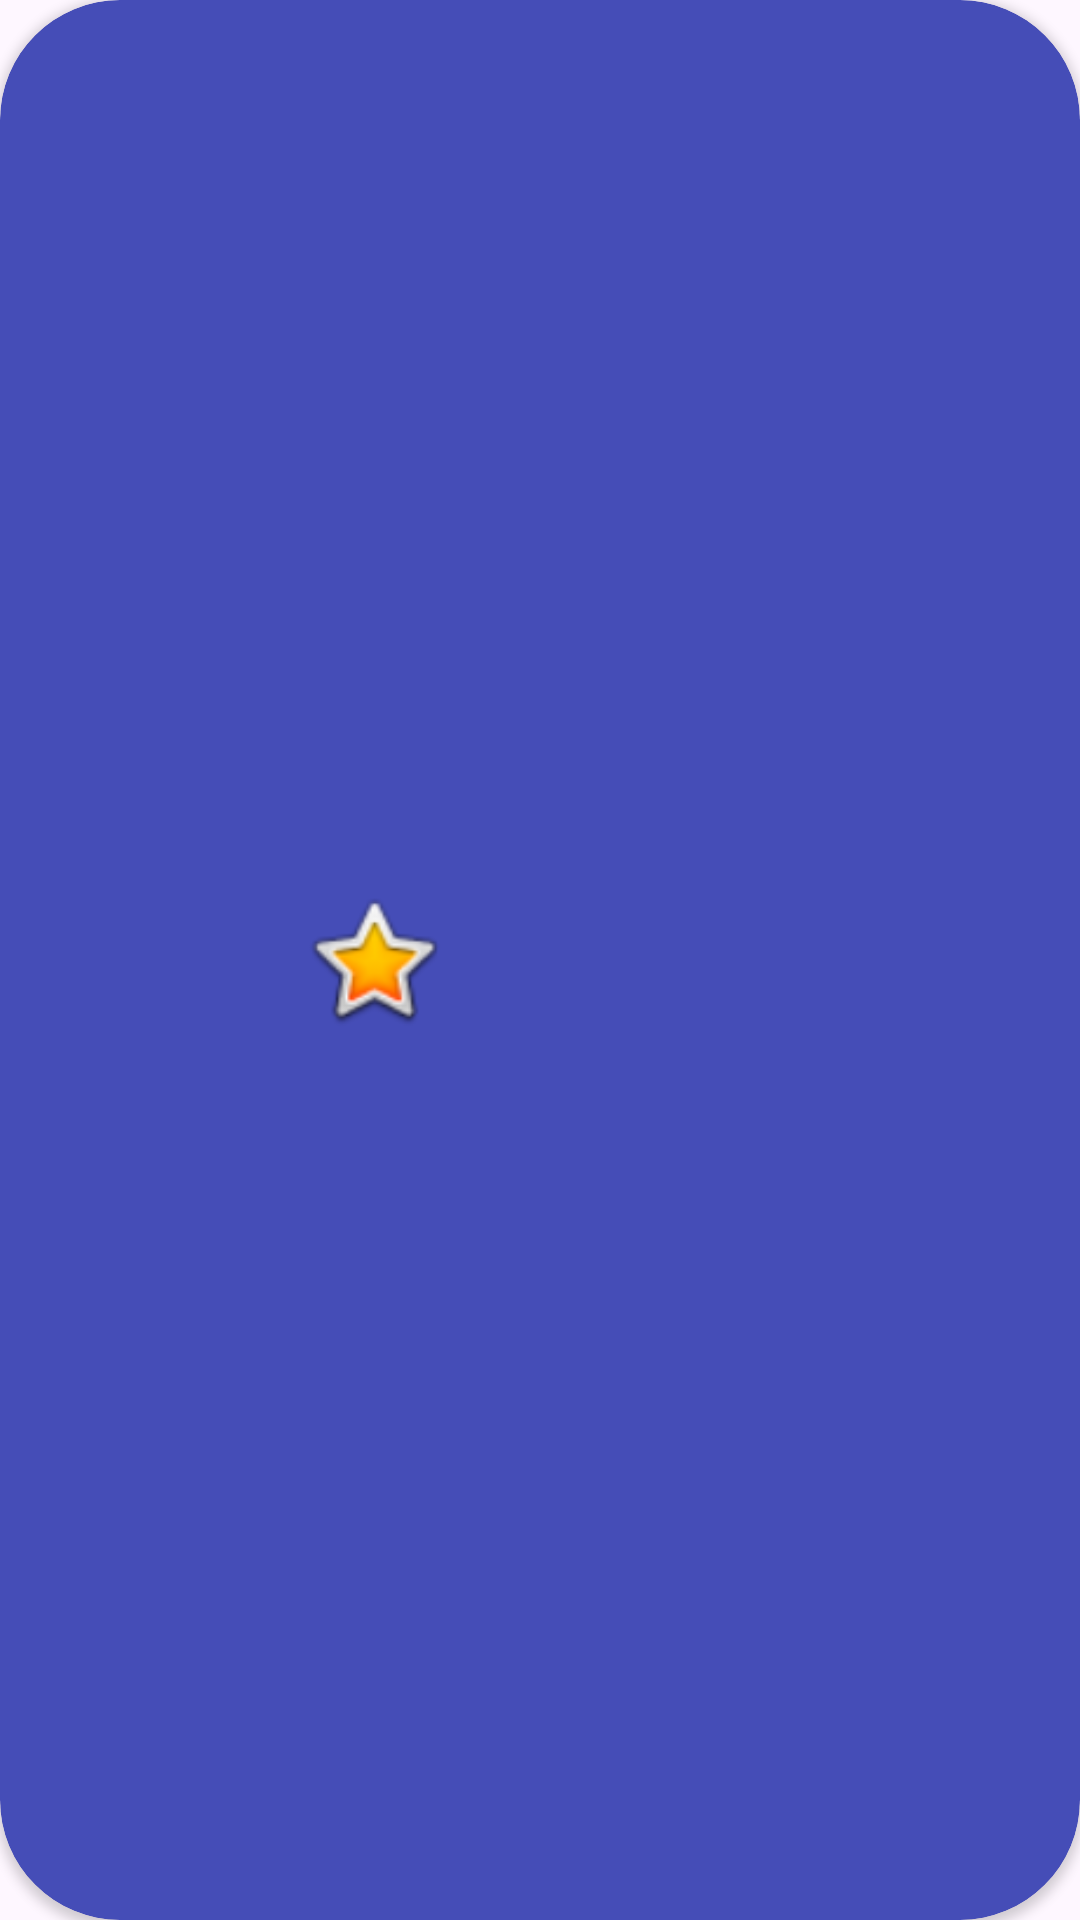

Icons on this 1080px×1920px Android screen, each with its box as (x1, y1, x2, y2):
star on: (313, 901, 437, 1022)
